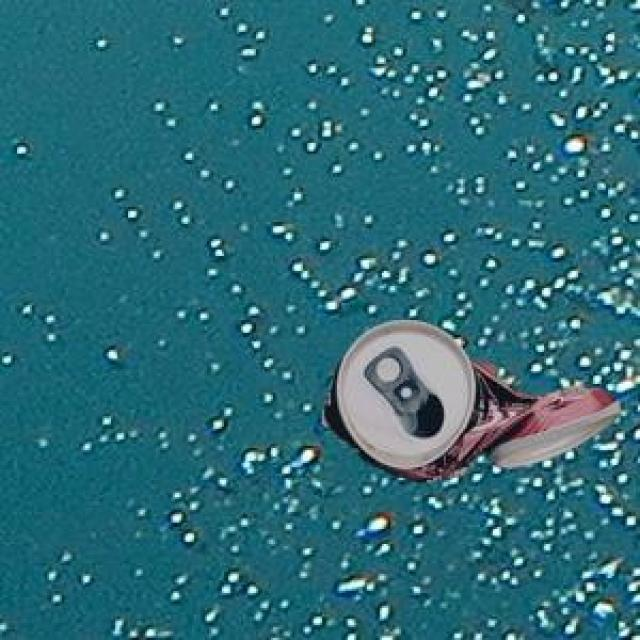Can: (319, 317, 618, 479)
